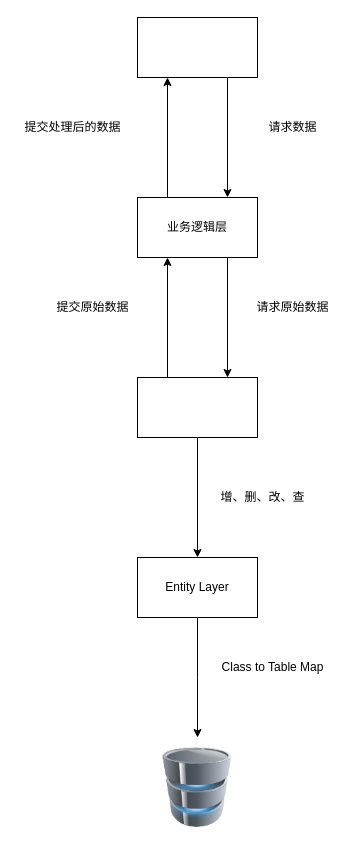
The diagram is 354 pixels wide and 845 high, and some of its shapes have lost their labels. Here are the shapes that lost their labels. From the top down, the box of each, then its label:
(136, 16, 258, 78): 表示层
(136, 376, 258, 438): 数据访问层
